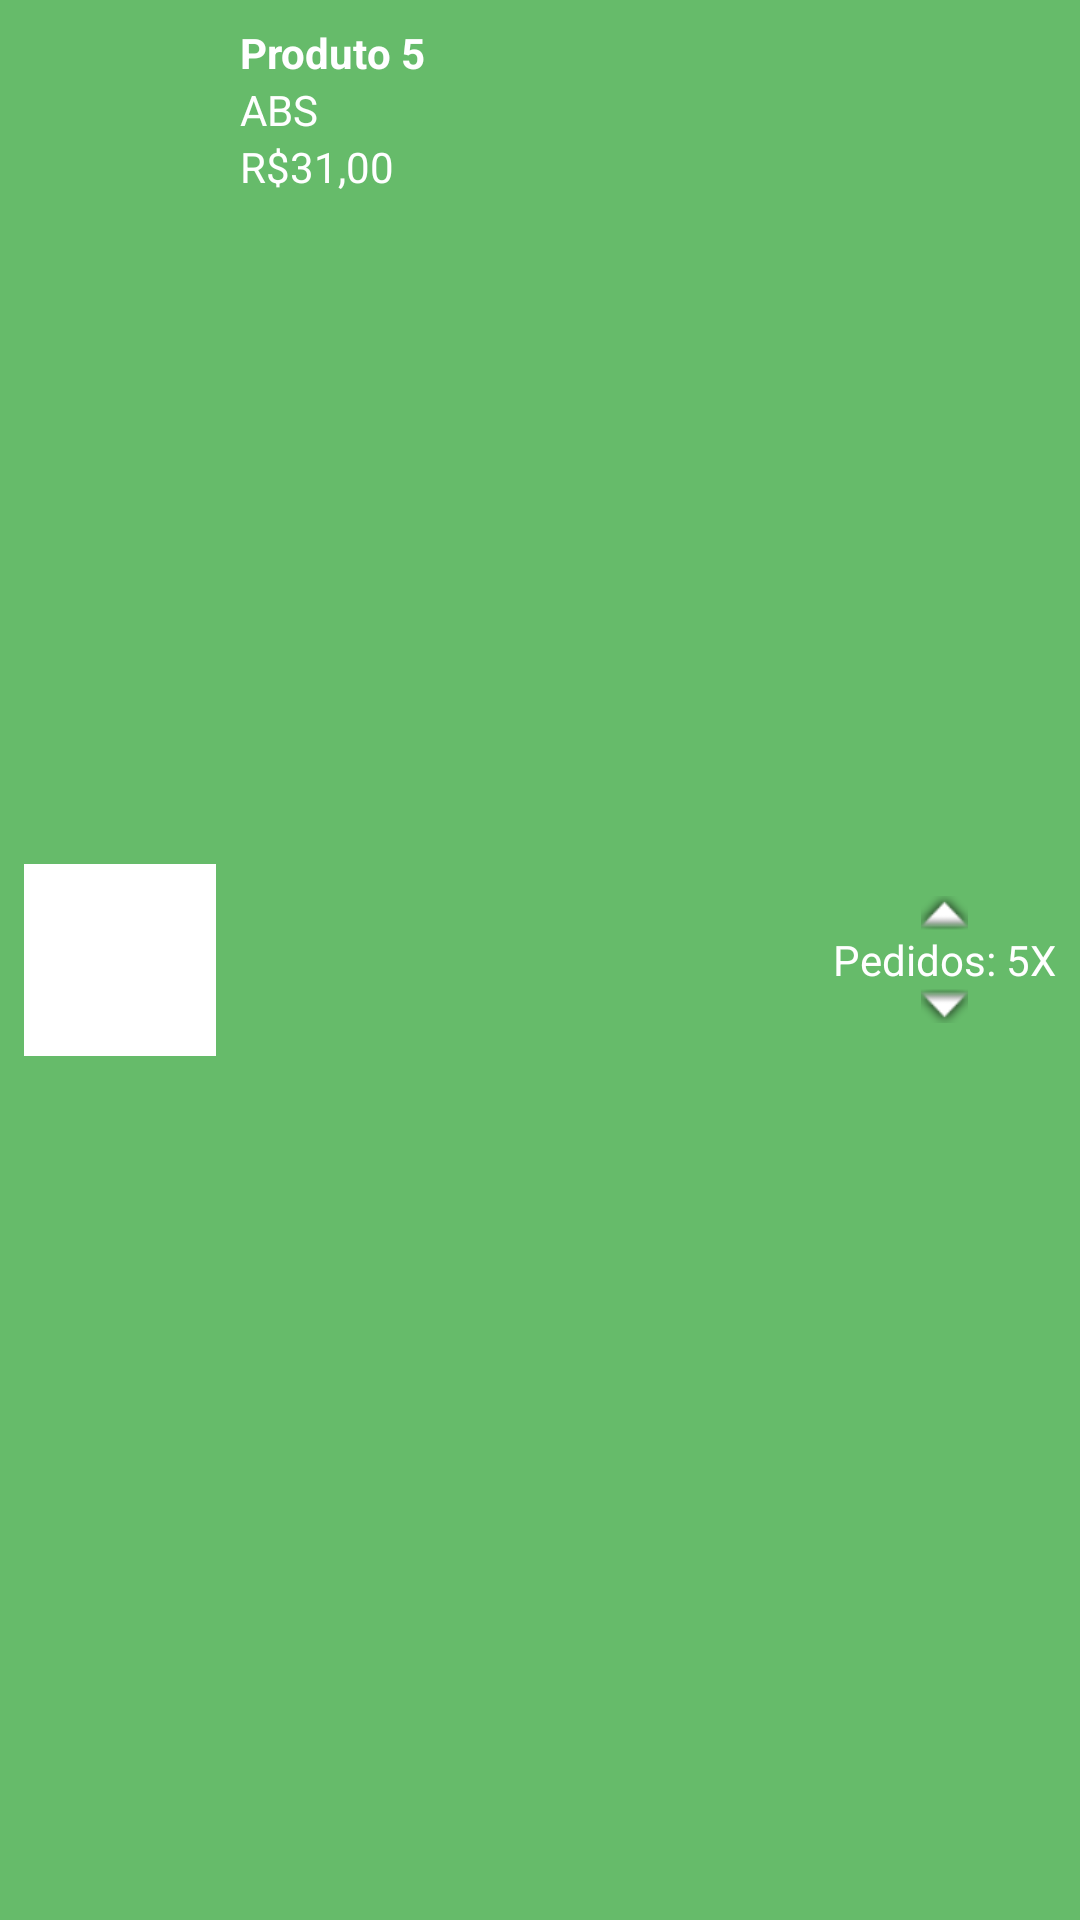

Where to tap for icons on this 1080*1920 app screen, as (x=x, y=y):
arrow down float: (x=944, y=1005)
arrow up float: (x=944, y=913)
